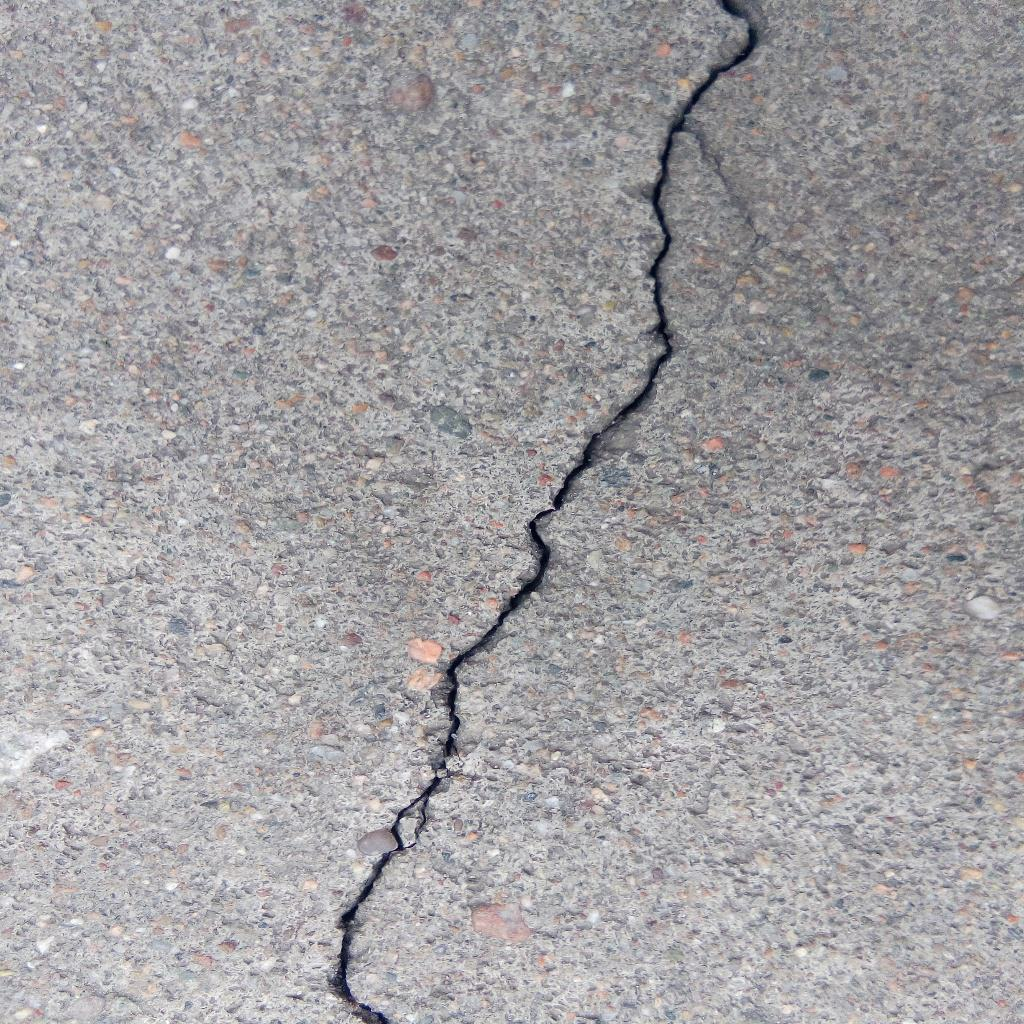Crack: (325, 1, 759, 1024)
